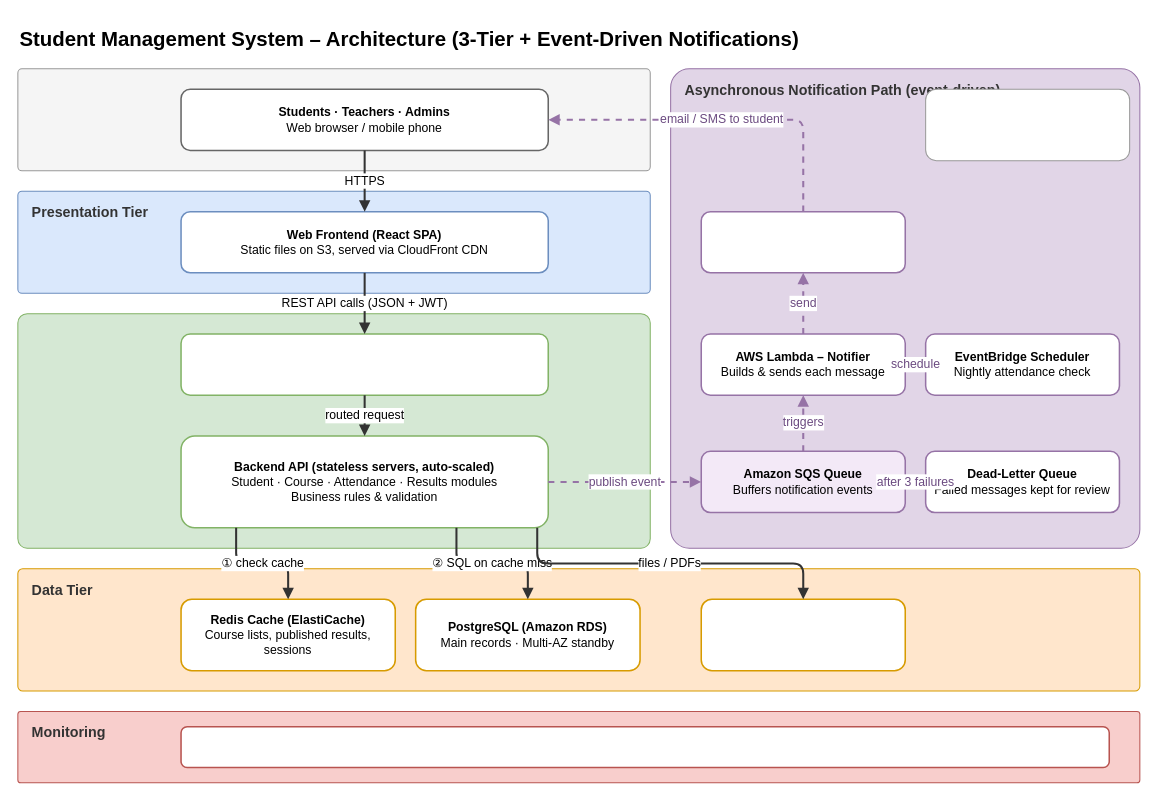
The diagram is 1158 pixels wide and 801 high, and some of its shapes have lost their labels. The box of each missing label's shape, as (x1, y1, x2, y2) in pixels:
Amazon CloudWatch – logs, metrics and alarms for every component: (180, 726, 1110, 768)
Amazon SES / SNS Delivers email & SMS: (700, 210, 906, 273)
API Gateway + Load Balancer JWT auth check · routing · auto-scaling: (180, 333, 549, 396)
Application Tier: (17, 313, 650, 548)
Legend ──── synchronous request (HTTPS / SQL) - - - - asynchronous event (SQS): (925, 88, 1130, 161)
S3 File Storage Uploads & PDF transcripts: (700, 598, 906, 671)
Users: (17, 68, 650, 171)
